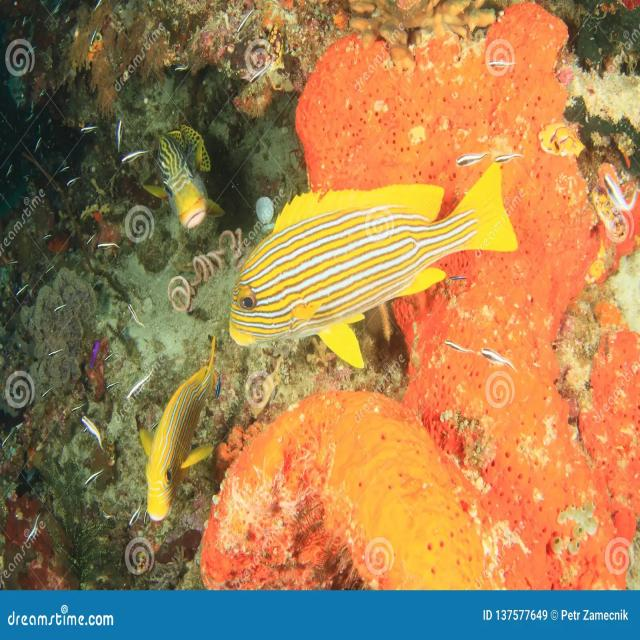RibbonedSweetlips: (228, 161, 520, 368), (136, 337, 221, 521), (144, 123, 225, 230)
